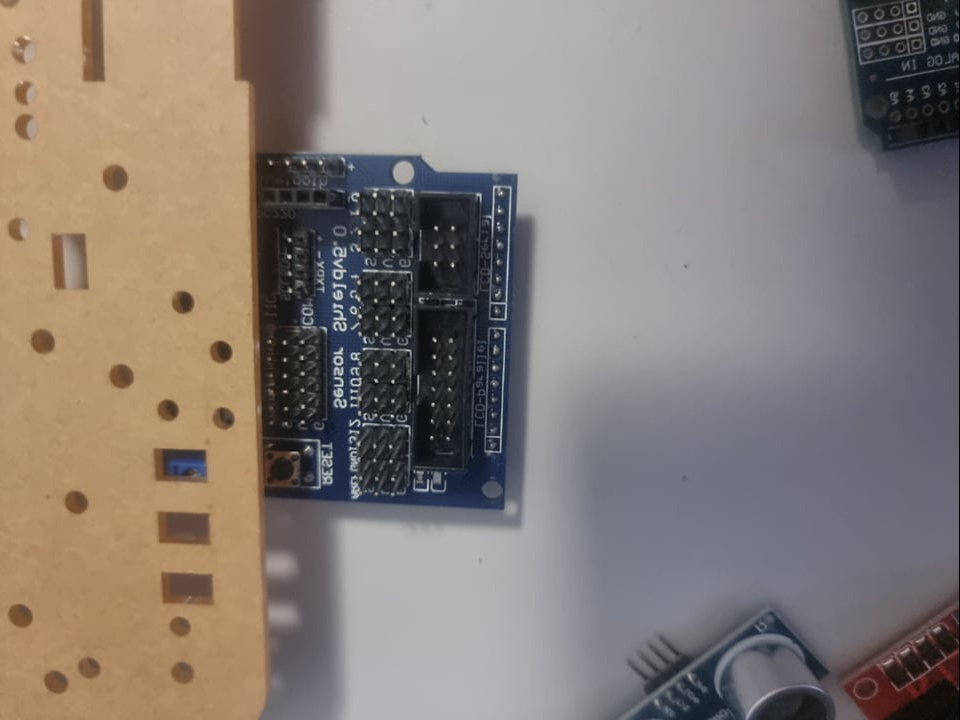5V EXPANSION: (262, 140, 516, 517)
SENSOR: (607, 611, 838, 720)
